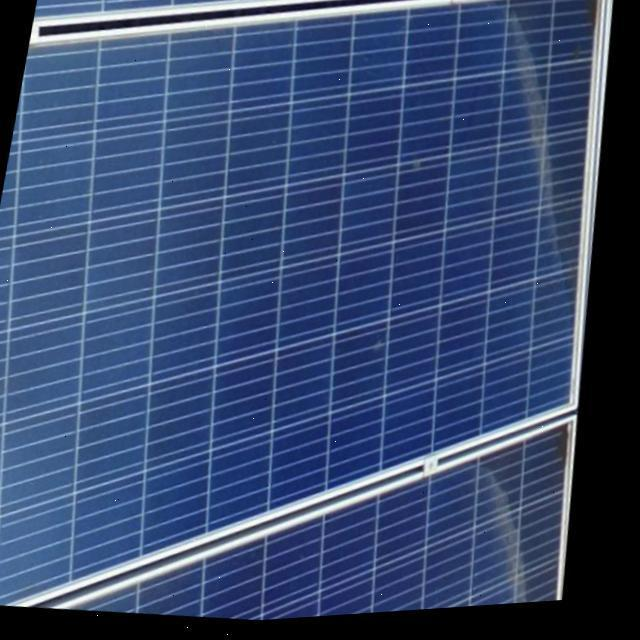Surface Contaminant: (452, 0, 633, 325), (457, 427, 597, 614)
